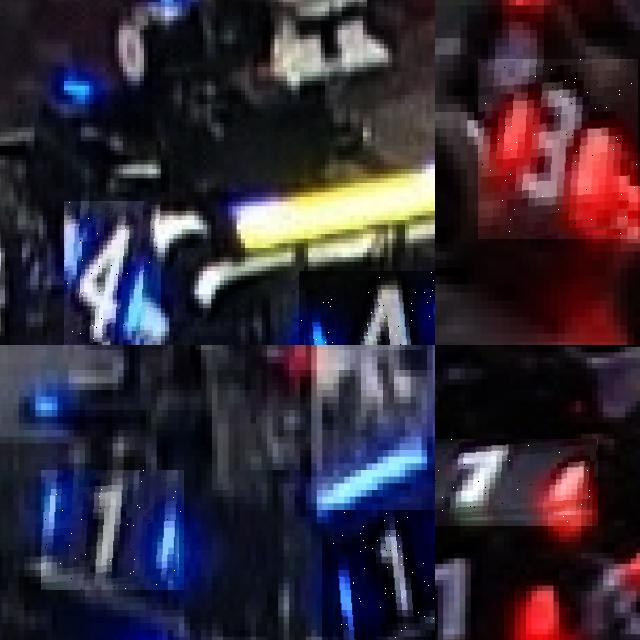B1: (41, 470, 184, 590), (322, 509, 435, 640)
B4: (64, 201, 161, 345), (299, 271, 435, 345)
R1: (435, 439, 597, 526), (435, 547, 564, 640)
R3: (478, 59, 638, 239)
